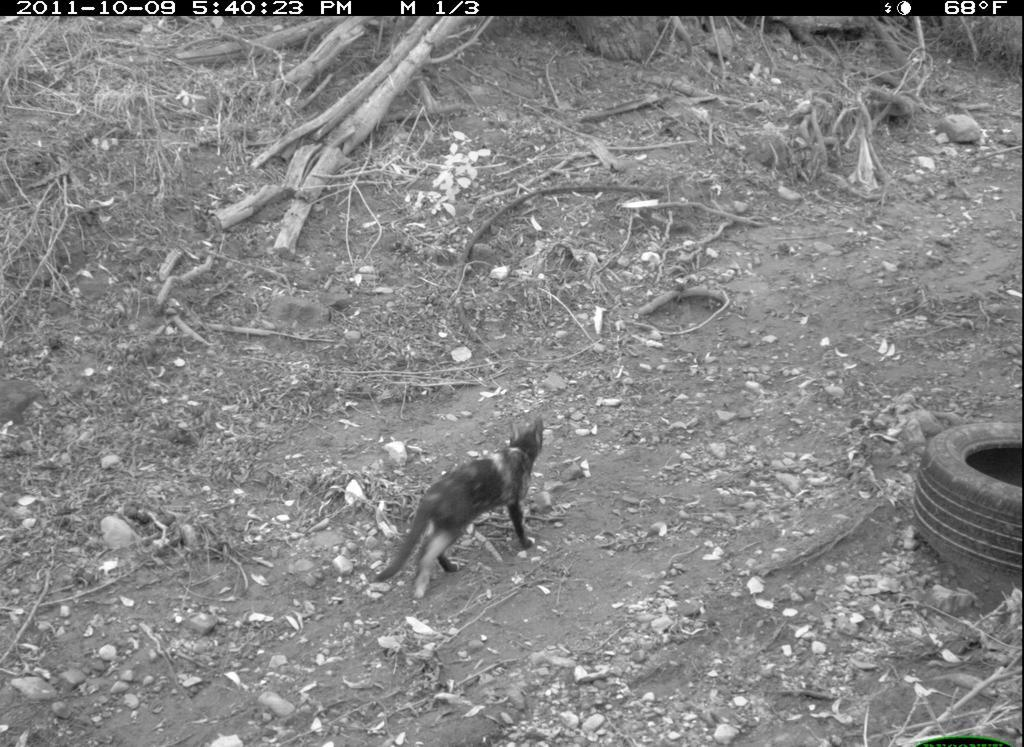cat: (367, 413, 550, 603)
